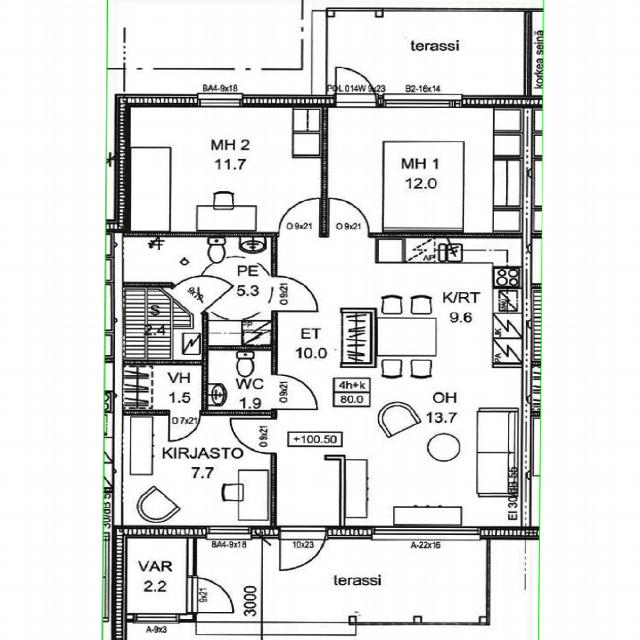door: (172, 261, 234, 314), (280, 526, 325, 576), (186, 577, 238, 613), (336, 61, 376, 107), (272, 276, 317, 311), (232, 419, 277, 453), (329, 199, 369, 237), (280, 199, 320, 237), (272, 375, 316, 409), (170, 410, 200, 441)
